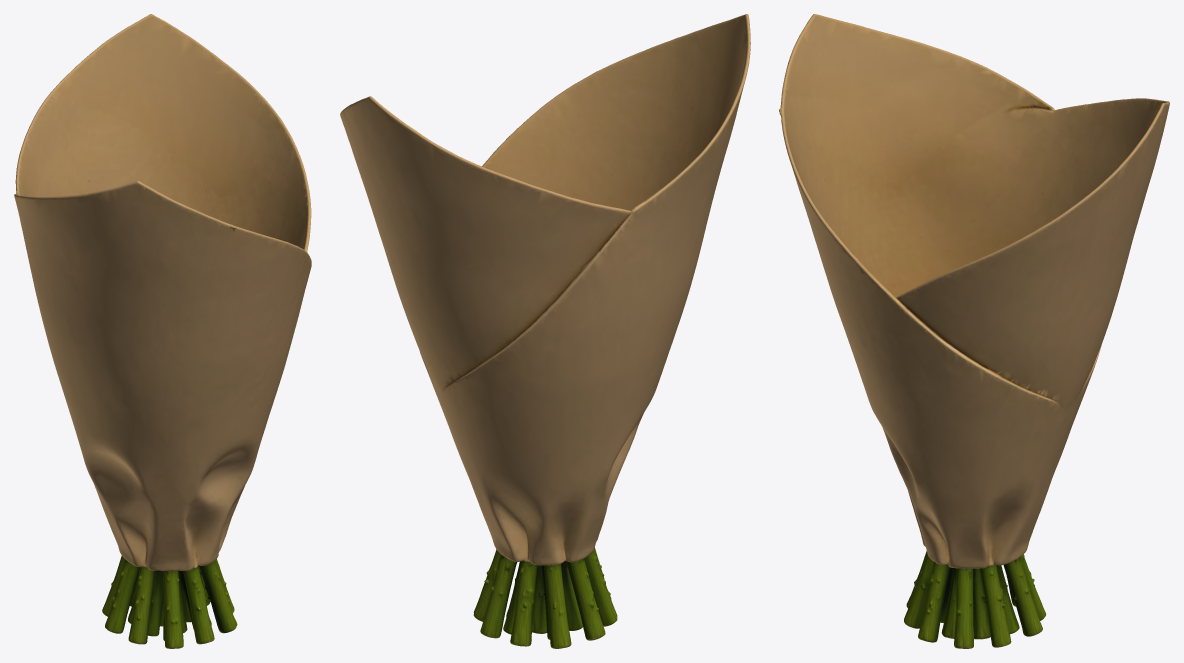
Rendered from wrapper1.glb.
3 renders of one model, left to right at view 1: azimuth 30°, elevation 25°; view 2: azimuth 150°, elevation 25°; view 3: azimuth 270°, elevation 25°, orthographic. The views are drawn at different scales.
Visible parts, largest first — view 1: tripo_node_09c0c1d8-f6ef-4506-a0b5-7a4ca4f8a67f; view 2: tripo_node_09c0c1d8-f6ef-4506-a0b5-7a4ca4f8a67f; view 3: tripo_node_09c0c1d8-f6ef-4506-a0b5-7a4ca4f8a67f.
Part boxes in pixels (left/top/right/bottom): tripo_node_09c0c1d8-f6ef-4506-a0b5-7a4ca4f8a67f: left=14, top=14, right=311, bottom=648; tripo_node_09c0c1d8-f6ef-4506-a0b5-7a4ca4f8a67f: left=340, top=14, right=750, bottom=648; tripo_node_09c0c1d8-f6ef-4506-a0b5-7a4ca4f8a67f: left=779, top=14, right=1169, bottom=648.
Size of the model in its own units: 0.5711 by 1 by 0.6309.
Materials: 1 (1 with a texture image).
